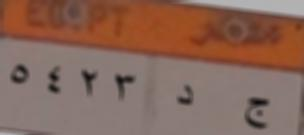2: (76, 66, 100, 103)
3: (108, 66, 141, 108)
4: (42, 63, 70, 99)
5: (7, 56, 33, 92)
daal: (170, 76, 203, 111)
jeem: (242, 90, 272, 133)
